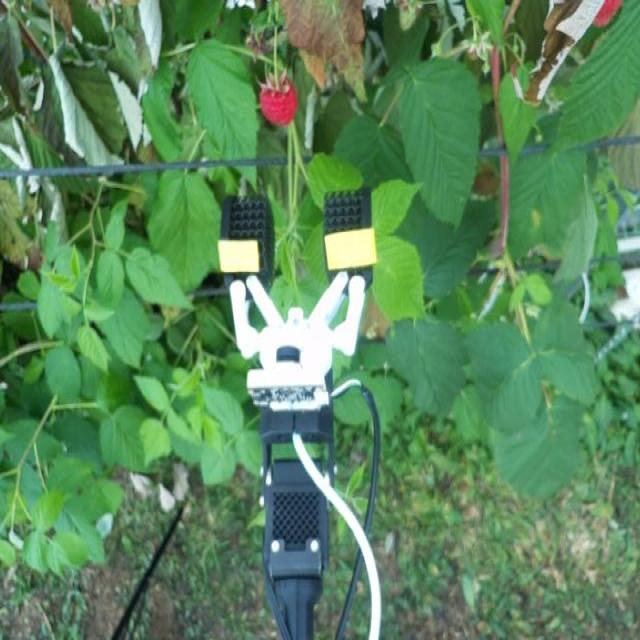Riped berries: (256, 71, 299, 128), (583, 0, 627, 31)
